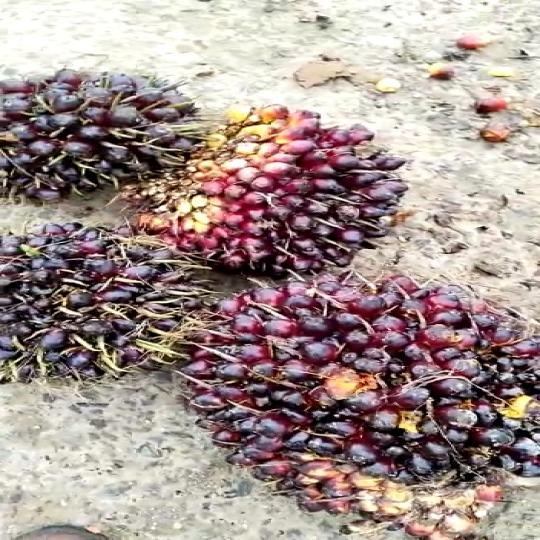kurang masak: (183, 276, 540, 534), (140, 124, 396, 286), (0, 222, 201, 395), (0, 75, 209, 219)
